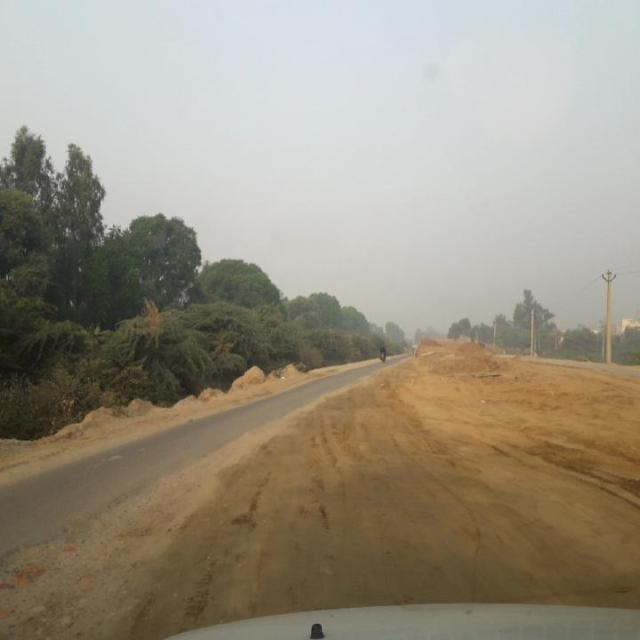Surface Erosion: (117, 266, 613, 582)
